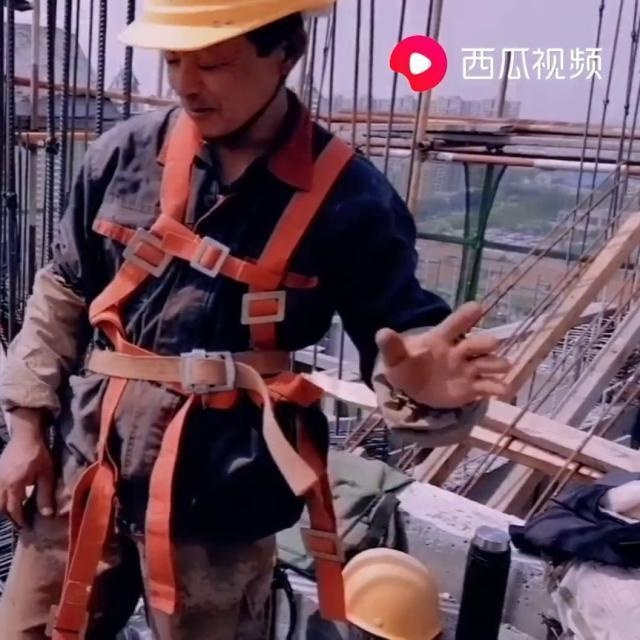Arnes_seguridad: (84, 92, 357, 454)
